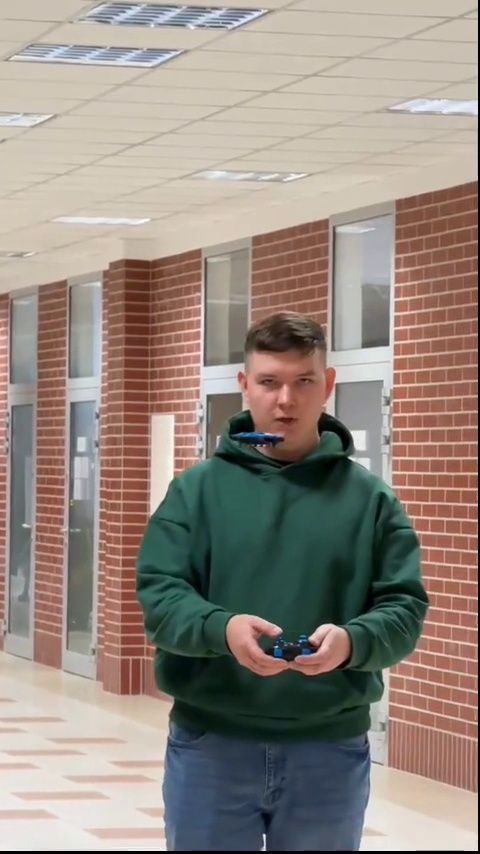drone: (231, 429, 286, 448)
no vest: (143, 311, 444, 854)
